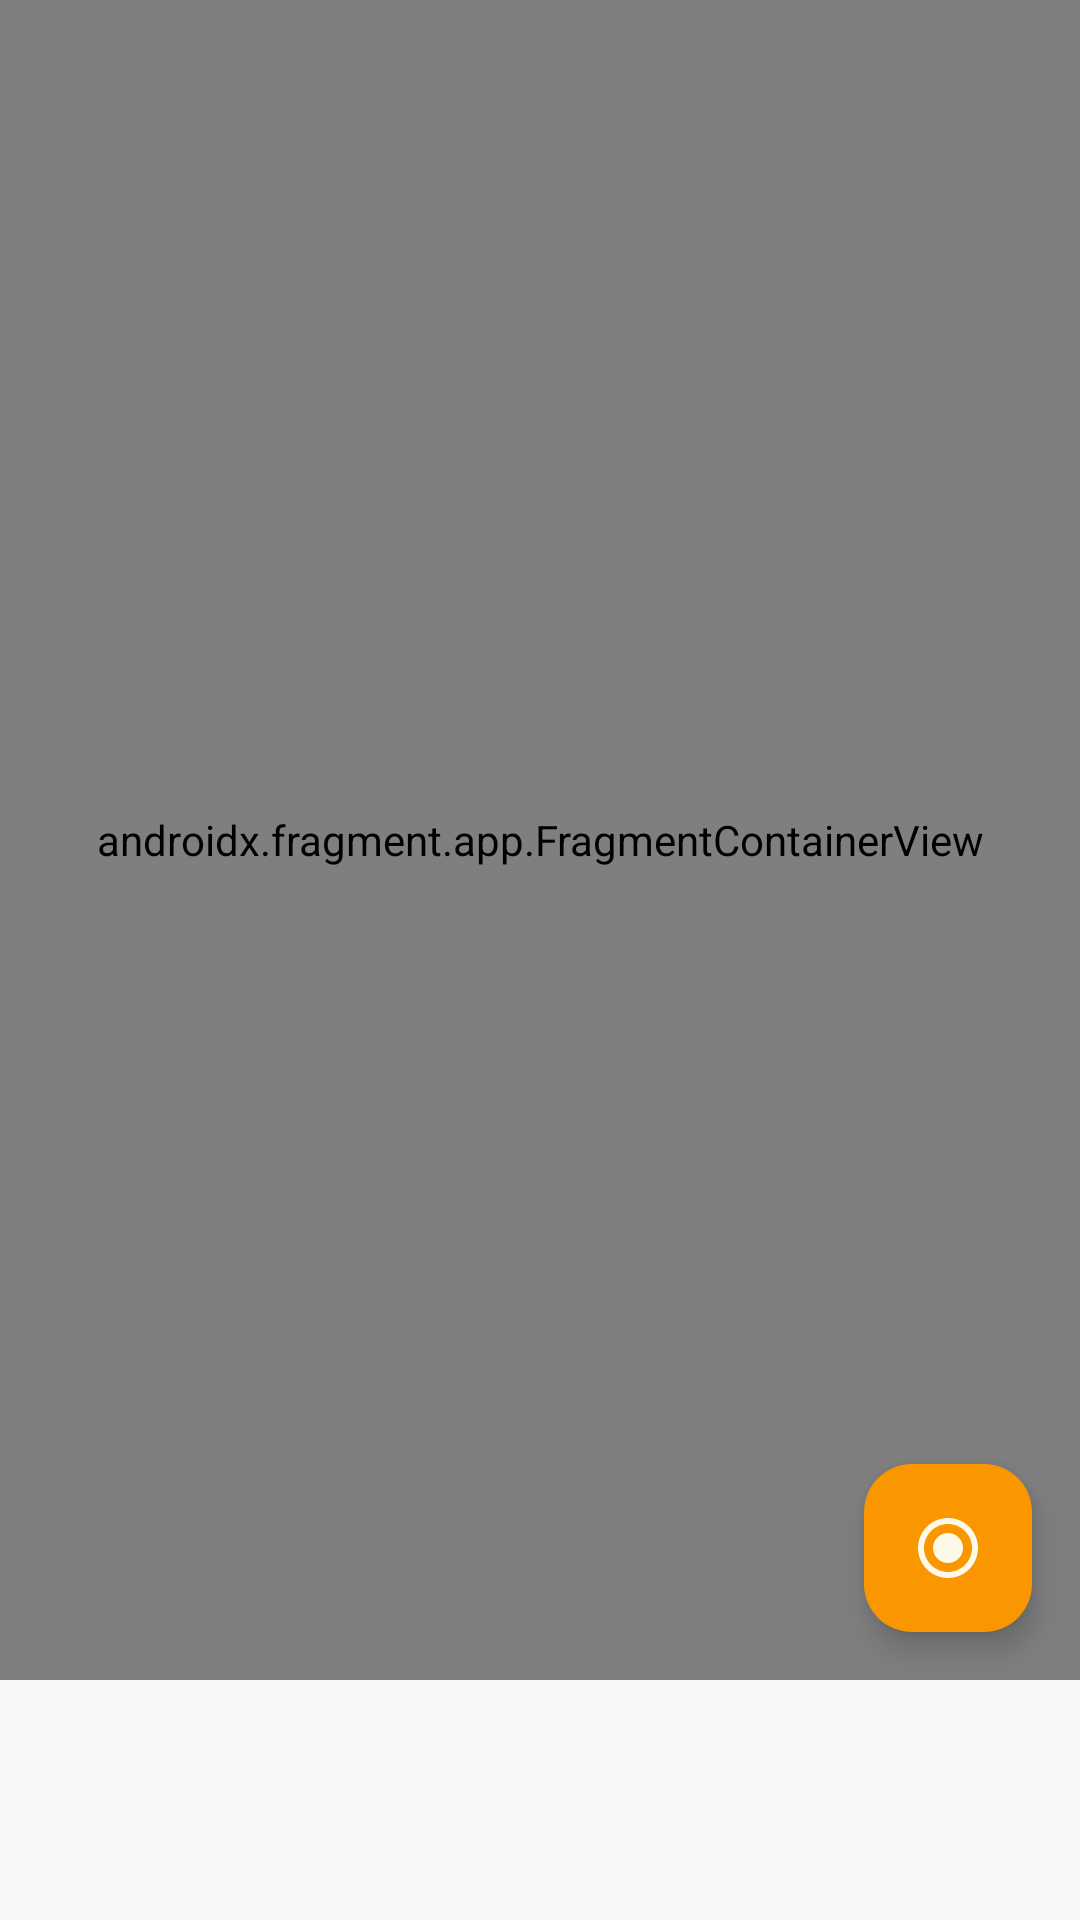

Icon click points for this 1080*1920 phone screenshot, format [x,y]:
Enregistrer: [948,1548]
